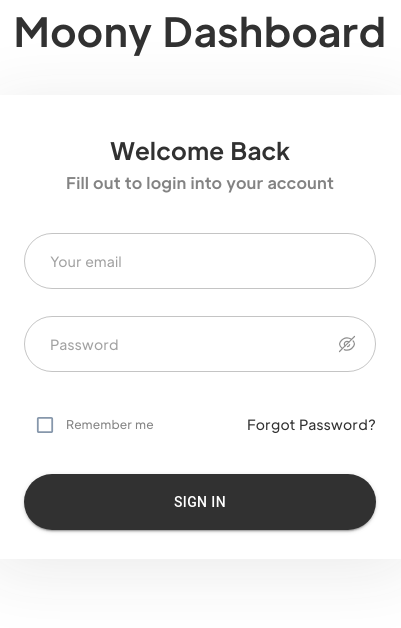
Test case: SignIn Container test › invalid credentials should show error message
This screenshot has width=401, height=628.
Type "gopi" into the field with test id "email" at (200, 261), box [36,234,364,288]
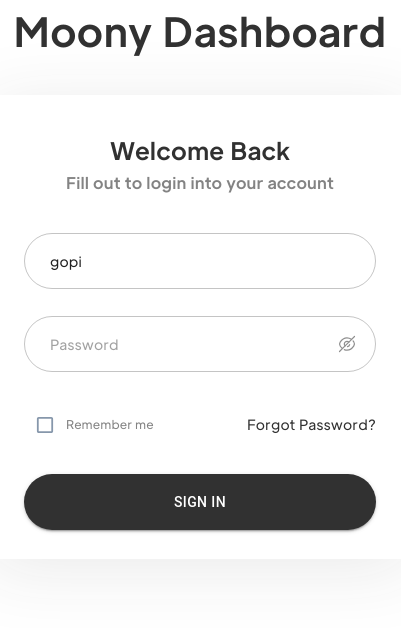
Type "rsdf" into the password field with test id "password" at (179, 344), box [36,317,322,370]
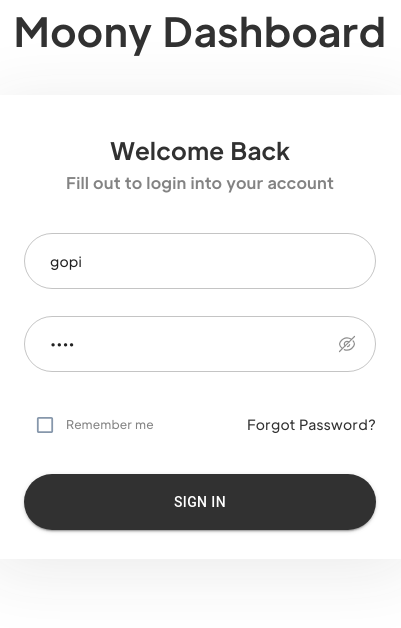
Click the button "Sign In" at (200, 502), box [24,474,376,530]
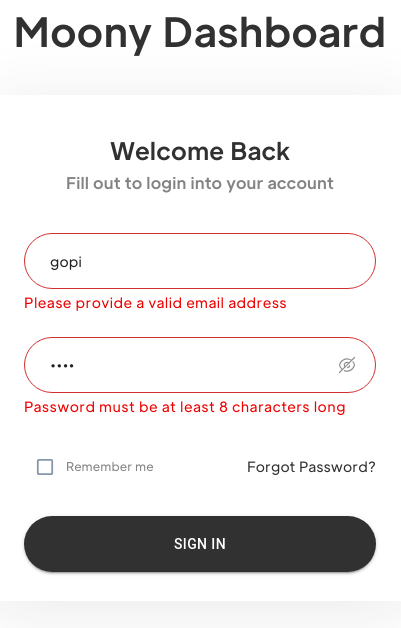
Check: the text "Please provide a valid email address" is shown, box [24,293,287,311]
Check: the text "Password must be at least 8 characters long" is shown, box [24,396,376,417]
